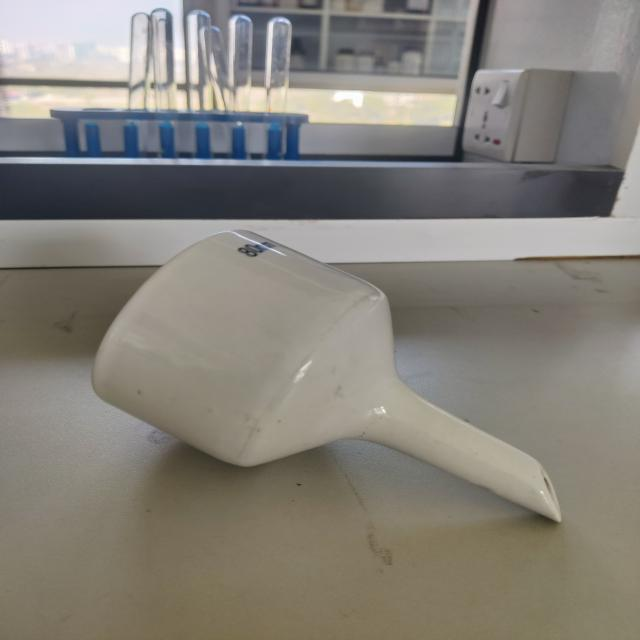Buchner_Funnel: (56, 205, 604, 569)
